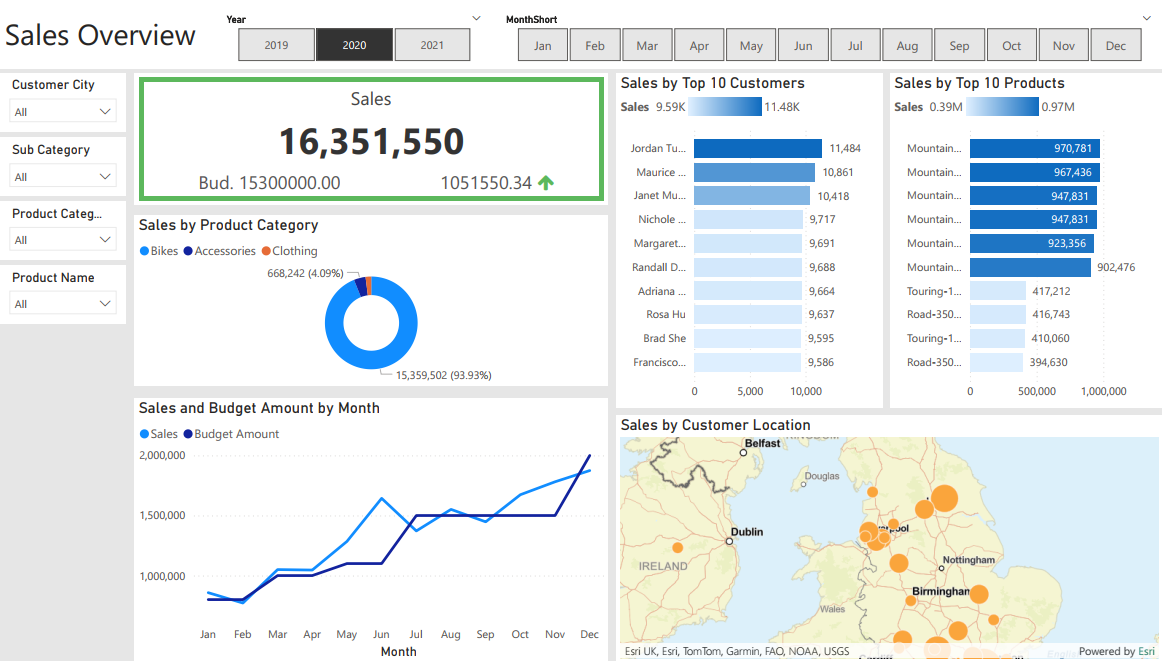

Layout of this report page (visuals, bound fields, positions):
{"tool":"powerbi","page":{"name":"Page 1","canvas":[1280,720],"ordinal":0},"visuals":[{"type":"textbox","box":[0,0,260,65.7],"z":0},{"type":"slicer","fields":{"Values":["DIM_Customers.Customer City"]},"box":[0,71.2,137.5,63.8],"z":1000},{"type":"slicer","fields":{"Values":["DIM_Products.Sub Category"]},"box":[0,142.5,137.5,63.8],"z":2000},{"type":"slicer","fields":{"Values":["DIM_Products.Product Category"]},"box":[0,211.9,137.5,63.8],"z":3000},{"type":"slicer","fields":{"Values":["DIM_Products.Product Name"]},"box":[0,281.9,137.5,63.8],"z":4000},{"type":"slicer","fields":{"Values":["DIM_Calendar.Year"]},"box":[235,0,307.5,66.2],"z":5000},{"type":"slicer","fields":{"Values":["DIM_Calendar.MonthShort"]},"box":[542.5,0,737.5,66.2],"z":6000},{"type":"BBED0A4D4D8D44CE93CF2DAFADEE466C","fields":{"actual":["FACT_InternetSales.Sales"],"target1":["FACT_Budget.Budget Amount"],"target2":["Key_Mesaures.Sale - Budget"]},"box":[147.5,71.2,521.2,145],"z":7000},{"type":"donutChart","fields":{"Y":["Key_Mesaures.Sales"],"Category":["DIM_Products.Product Category"]},"box":[147.5,227.5,521.2,187.5],"z":8000},{"type":"lineChart","fields":{"Category":["DIM_Calendar.MonthShort"],"Y":["Key_Mesaures.Sales","Key_Mesaures.Budget Amount"]},"box":[147.5,428.8,521.2,291.2],"z":9000},{"type":"barChart","title":"Sales by Top 10 Customers","fields":{"Category":["DIM_Customers.Full Name"],"Y":["Key_Mesaures.Sales"]},"box":[677.5,71.2,292.5,367.5],"z":10000},{"type":"barChart","title":"Sales by Top 10 Products","fields":{"Y":["Key_Mesaures.Sales"],"Category":["DIM_Products.Product Name"]},"box":[978.8,71.2,301.2,367.5],"z":11000},{"type":"esriVisual","title":"Sales by Customer Location","fields":{"Location":["DIM_Customers.Customer City"],"Size":["Key_Mesaures.Sales"]},"box":[677.5,447.5,602.5,272.5],"z":11001}]}

Visuals, with their boxes in screenshot pixels (x1, y1, x2, y2), scaled from the page's 1280x720 canvas onto the 1162x661 screenshot:
textbox: 0,0,236,60
slicer - DIM_Customers.Customer City: 0,65,125,124
slicer - DIM_Products.Sub Category: 0,131,125,189
slicer - DIM_Products.Product Category: 0,195,125,253
slicer - DIM_Products.Product Name: 0,259,125,317
slicer - DIM_Calendar.Year: 213,0,492,61
slicer - DIM_Calendar.MonthShort: 492,0,1161,61
BBED0A4D4D8D44CE93CF2DAFADEE466C - FACT_InternetSales.Sales x FACT_Budget.Budget Amount: 134,65,607,198
donutChart - Key_Mesaures.Sales x DIM_Products.Product Category: 134,209,607,381
lineChart - DIM_Calendar.MonthShort x Key_Mesaures.Sales: 134,394,607,660
"Sales by Top 10 Customers" barChart: 615,65,881,403
"Sales by Top 10 Products" barChart: 889,65,1161,403
"Sales by Customer Location" esriVisual: 615,411,1161,660
